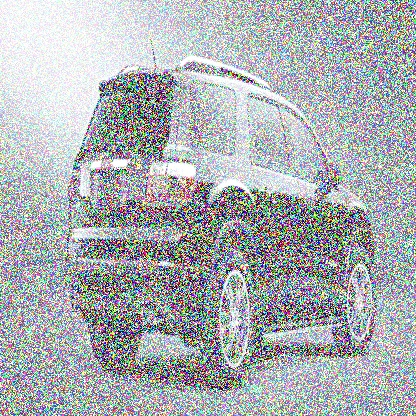Vehicle: (53, 32, 394, 403)
